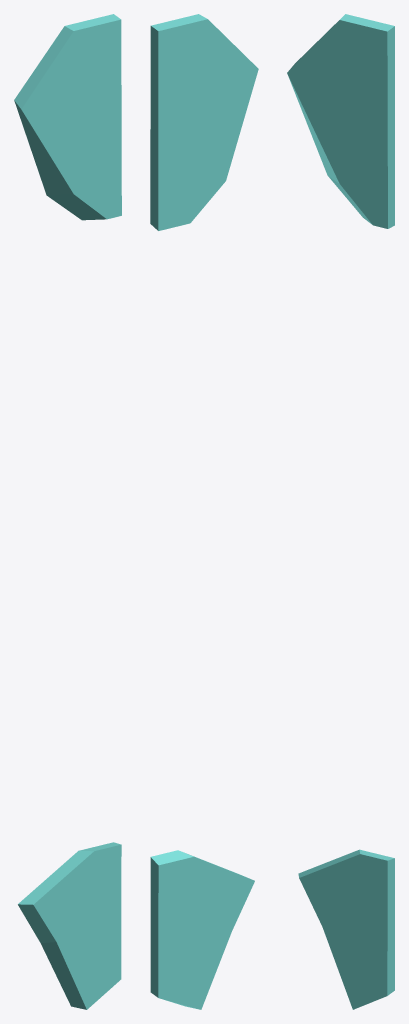
Rendered from Glass Destroyed F.fbx.
3 renders of one model, left to right at view 1: azimuth 30°, elevation 25°; view 2: azimuth 210°, elevation 25°; view 3: azimuth 330°, elevation 25°, orthographic.
Parts seen in each view (by area): view 1: Glass Destroyed F; view 2: Glass Destroyed F; view 3: Glass Destroyed F.
Boxes of the visible parts, box(x1,y1,x2,y2) form: Glass Destroyed F: box(14, 14, 121, 1009); Glass Destroyed F: box(150, 14, 258, 1009); Glass Destroyed F: box(287, 14, 394, 1009).
Bounding box in the file's own units: 0.077 × 0.719 × 0.01.
